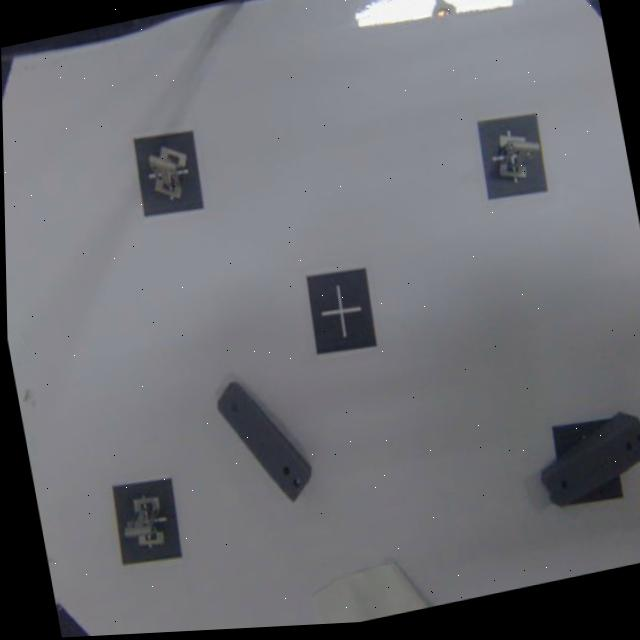pick1: (475, 107, 552, 205)
pick2: (127, 127, 204, 224)
pick5: (102, 471, 183, 569)
